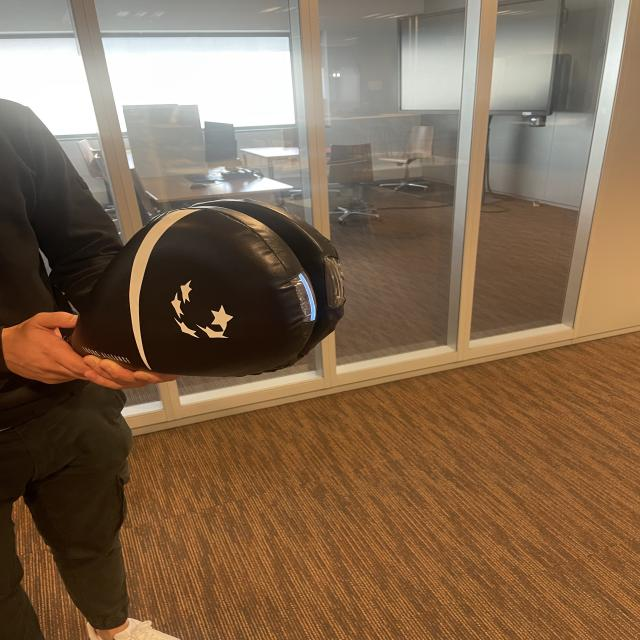paddle: (116, 198, 346, 380)
trigger: (293, 265, 325, 327)
